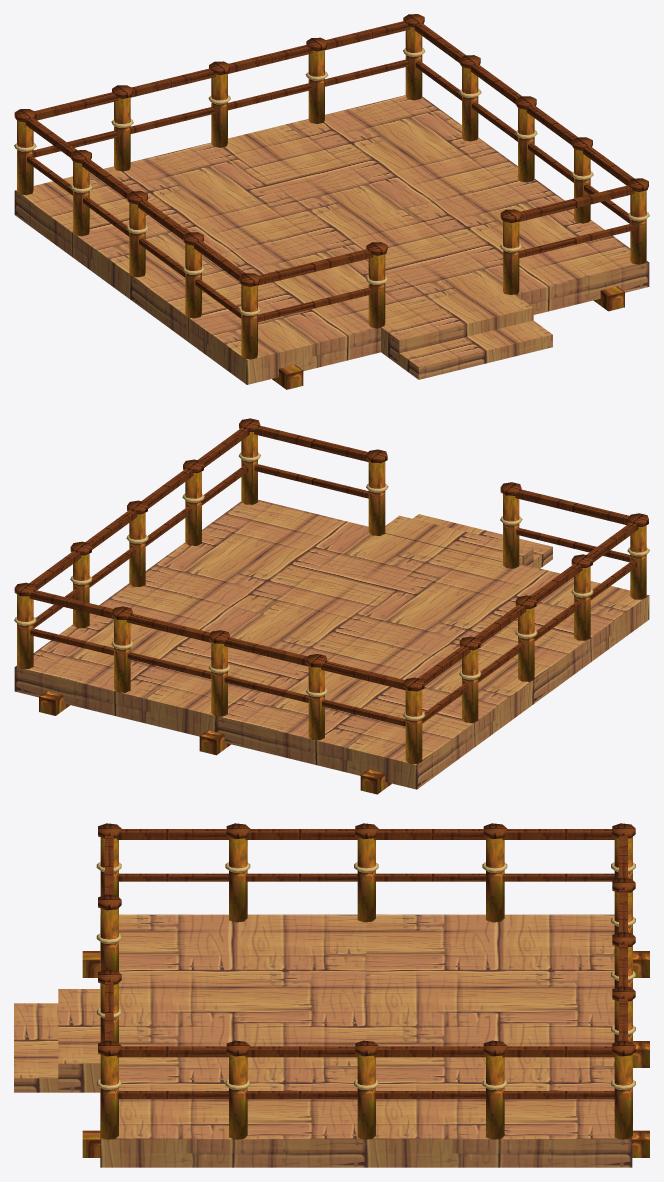
The model's file is deck.glb.
3 views of the same model, one above another, from view 1: azimuth 30°, elevation 25°; view 2: azimuth 150°, elevation 25°; view 3: azimuth 270°, elevation 25° (orthographic). The views are drawn at different scales.
Parts seen in each view (by area): view 1: deck; view 2: deck; view 3: deck.
Boxes of the visible parts, x1,y1,x2,y2 form: deck: [14, 14, 649, 389]; deck: [14, 418, 649, 794]; deck: [14, 823, 649, 1167].
Bounding box in the file's own units: 6.1 × 1.57 × 7.18.
4 materials, 3 textured.
